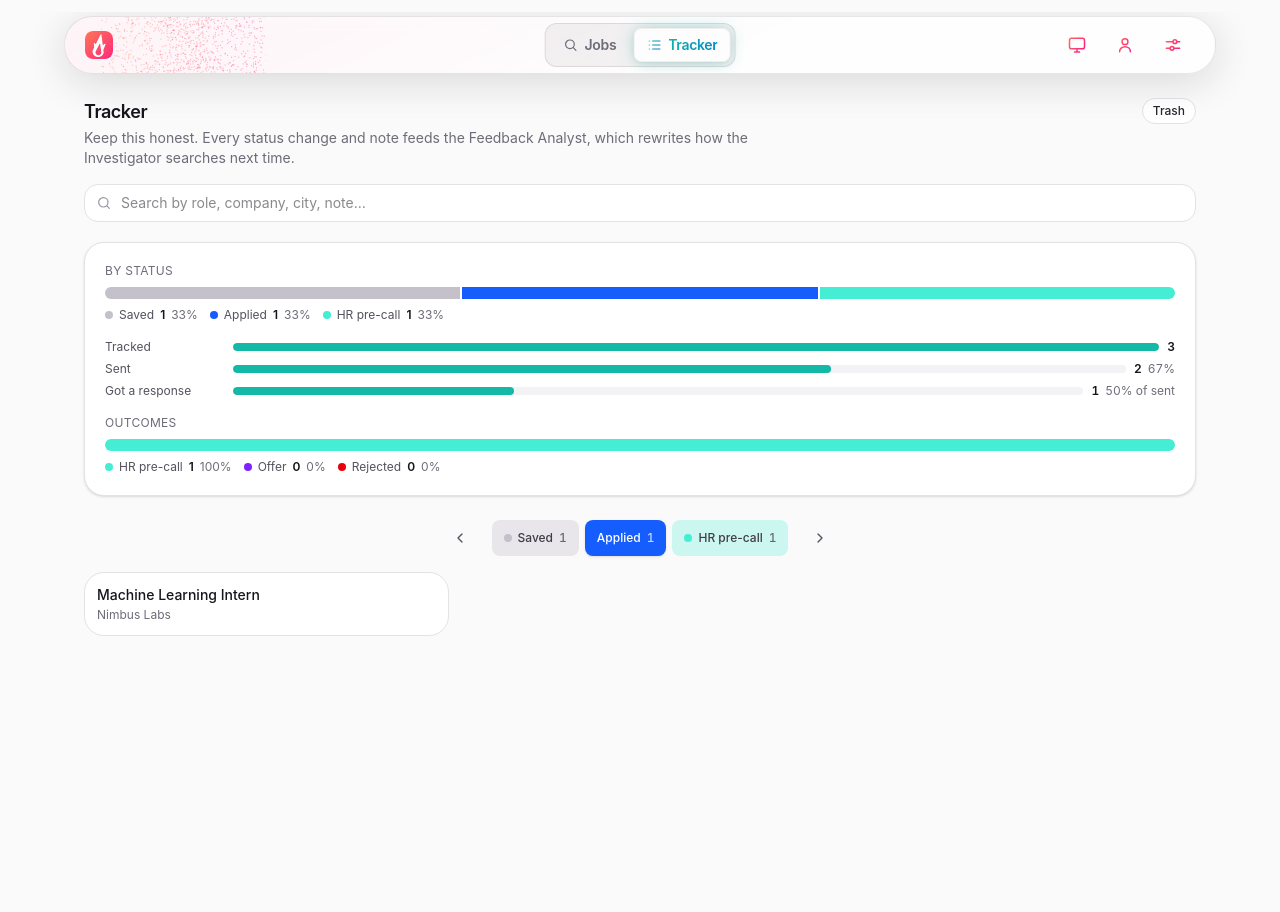
it: the Tracker's search field › leaves the charts reading the whole board
The width and height of the screenshot is (1280, 912).
Expected: the text "Nimbus Labs" is shown, [97,607,171,622]
Type "orbital" into the search field named "Search applications". click: (640, 203)
box: [84,184,1196,222]
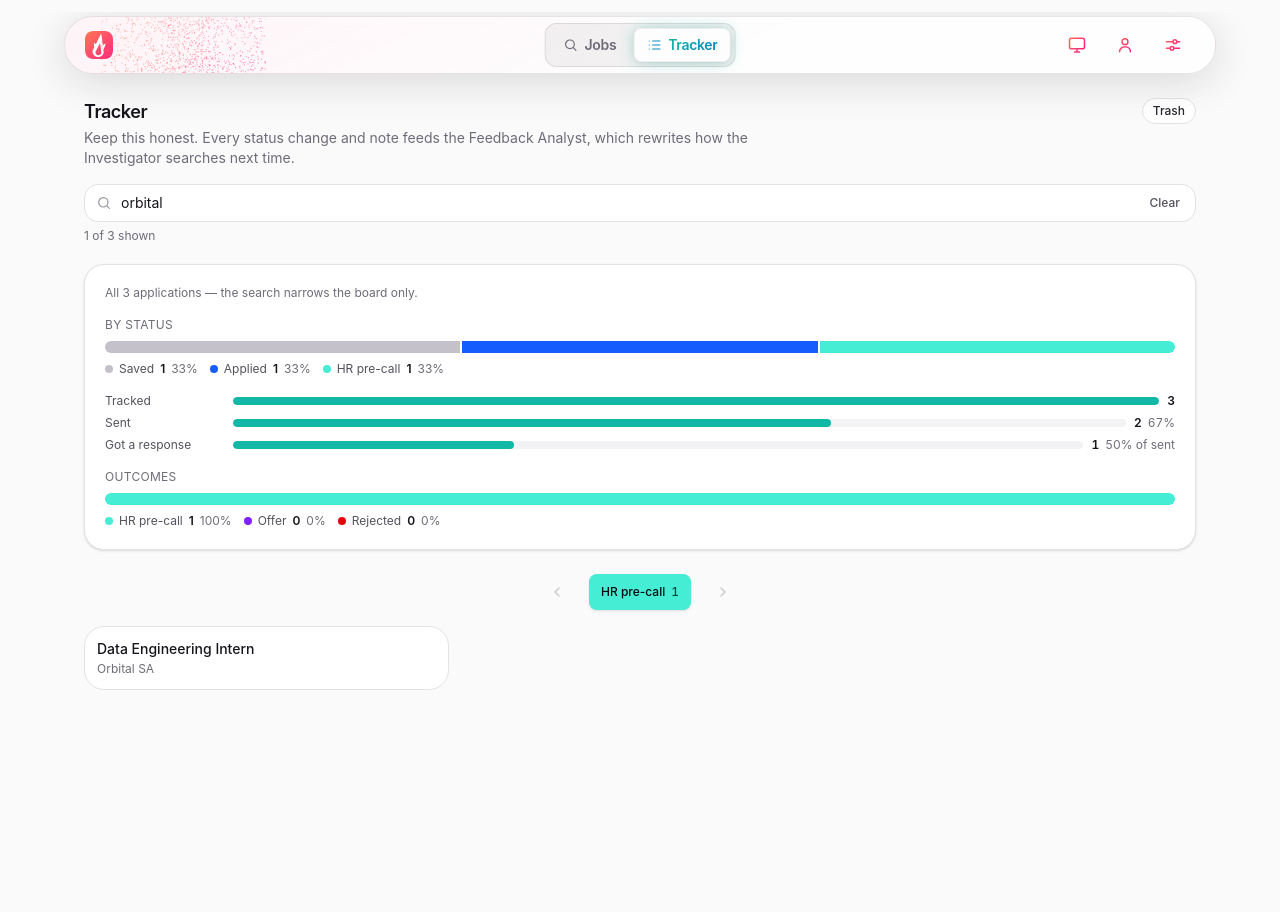
Expected: the picture named "Tracked: 3" is shown, [105,393,1175,409]
Expected: the link "Nimbus Labs" is gone
Expected: the text "All 3 applications — the search narrows the board only." is shown, [105,285,418,300]
